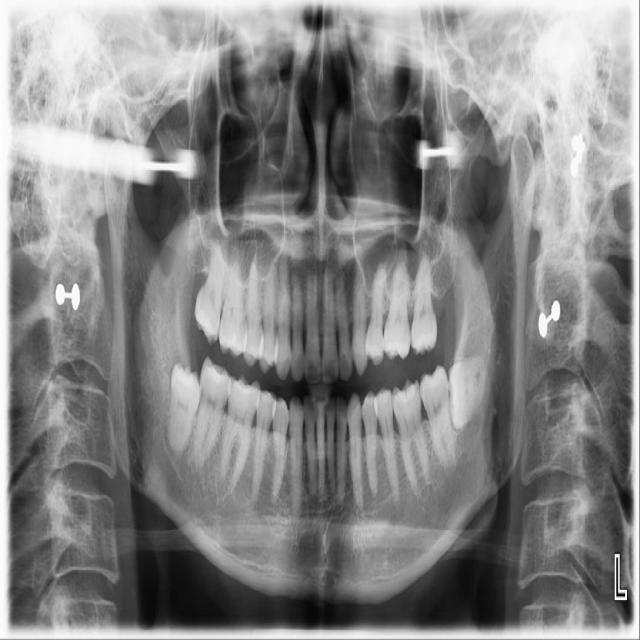impacted tooth: (450, 340, 488, 430), (166, 365, 200, 455)
